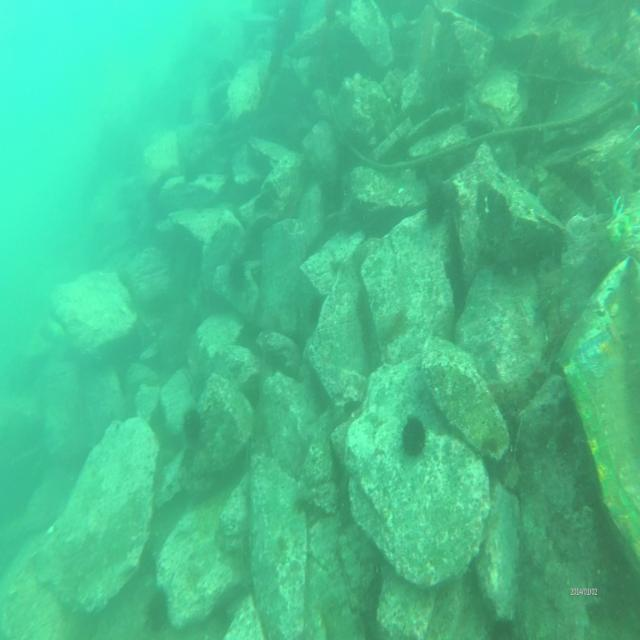echinus: (420, 179, 452, 230), (300, 287, 329, 343), (400, 411, 427, 465), (143, 589, 170, 635), (178, 406, 205, 451), (225, 248, 249, 296)
